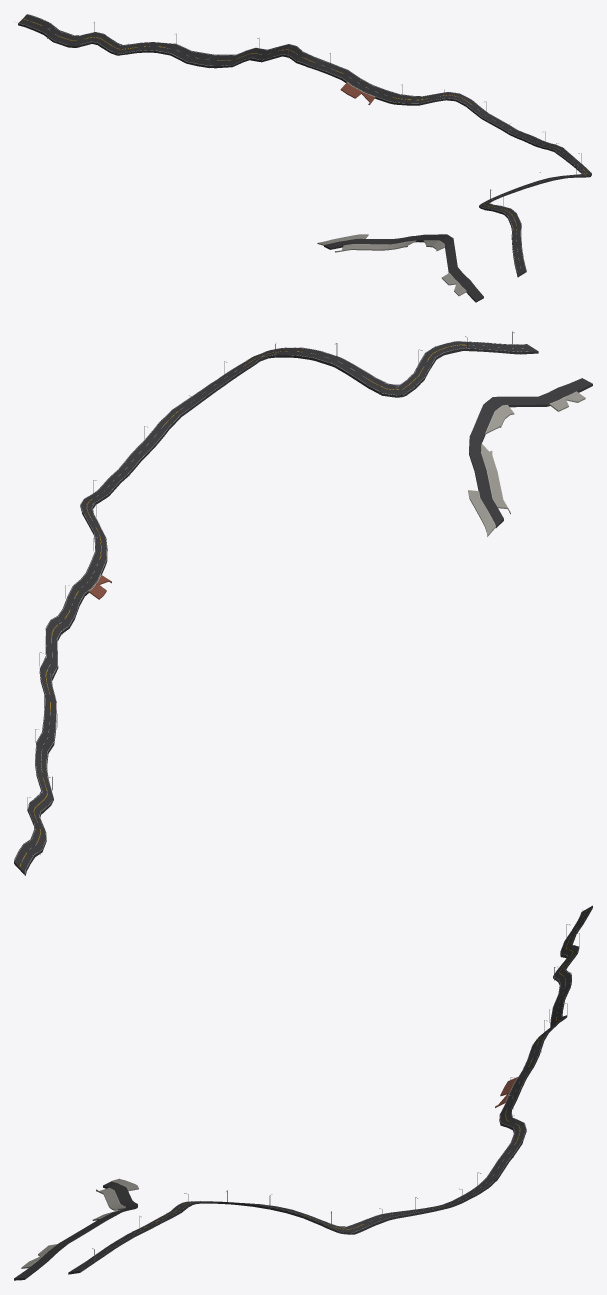
3 views of the same model, one above another, from view 1: azimuth 30°, elevation 25°; view 2: azimuth 150°, elevation 25°; view 3: azimuth 330°, elevation 25° (orthographic). The views are drawn at different scales.
Bounding box in the file's own units: 185 × 71.22 × 586.
